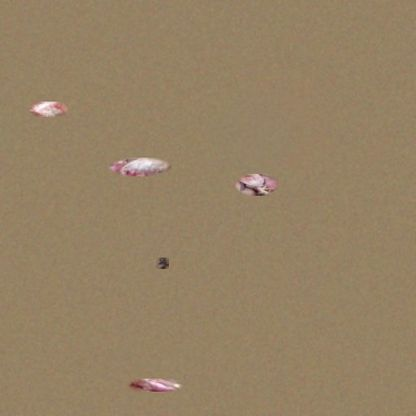damaged: (109, 158, 171, 176)
healthy: (30, 102, 68, 117)
rotten: (127, 379, 182, 392), (156, 258, 169, 269)
sprouted: (236, 174, 278, 196)
